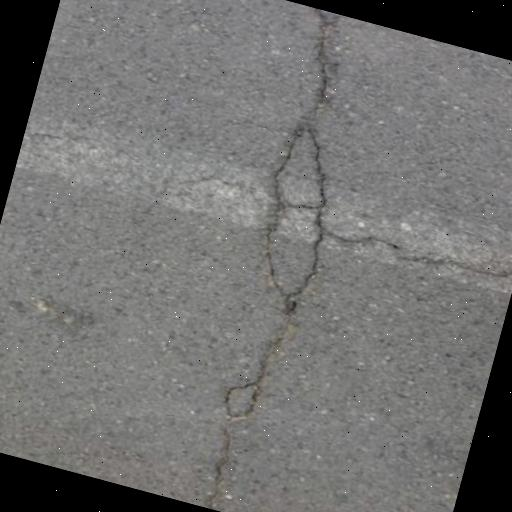spalling: (181, 19, 344, 512), (323, 213, 512, 302)
